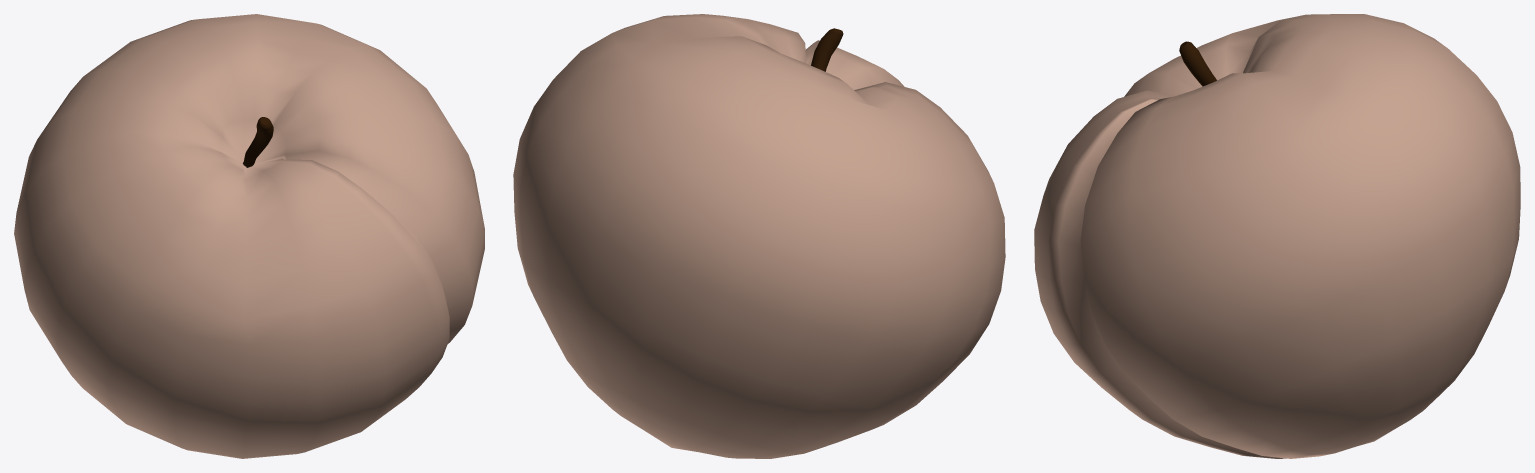
The model's file is peach.fbx.
3 views of the same model, side by side, from view 1: azimuth 30°, elevation 25°; view 2: azimuth 150°, elevation 25°; view 3: azimuth 270°, elevation 25° (orthographic). The views are drawn at different scales.
Visible parts, largest first — view 1: peachhouse:pSphere1, peachhouse:pCylinder1; view 2: peachhouse:pSphere1, peachhouse:pCylinder1; view 3: peachhouse:pSphere1, peachhouse:pCylinder1.
Part boxes in pixels (<box>): peachhouse:pSphere1: <box>14,14,484,458</box>; peachhouse:pCylinder1: <box>243,117,273,167</box>; peachhouse:pSphere1: <box>513,14,1005,458</box>; peachhouse:pCylinder1: <box>811,28,843,71</box>; peachhouse:pSphere1: <box>1034,14,1520,458</box>; peachhouse:pCylinder1: <box>1179,41,1216,86</box>.
Bounding box in the file's own units: 2.18 × 1.96 × 2.15.
